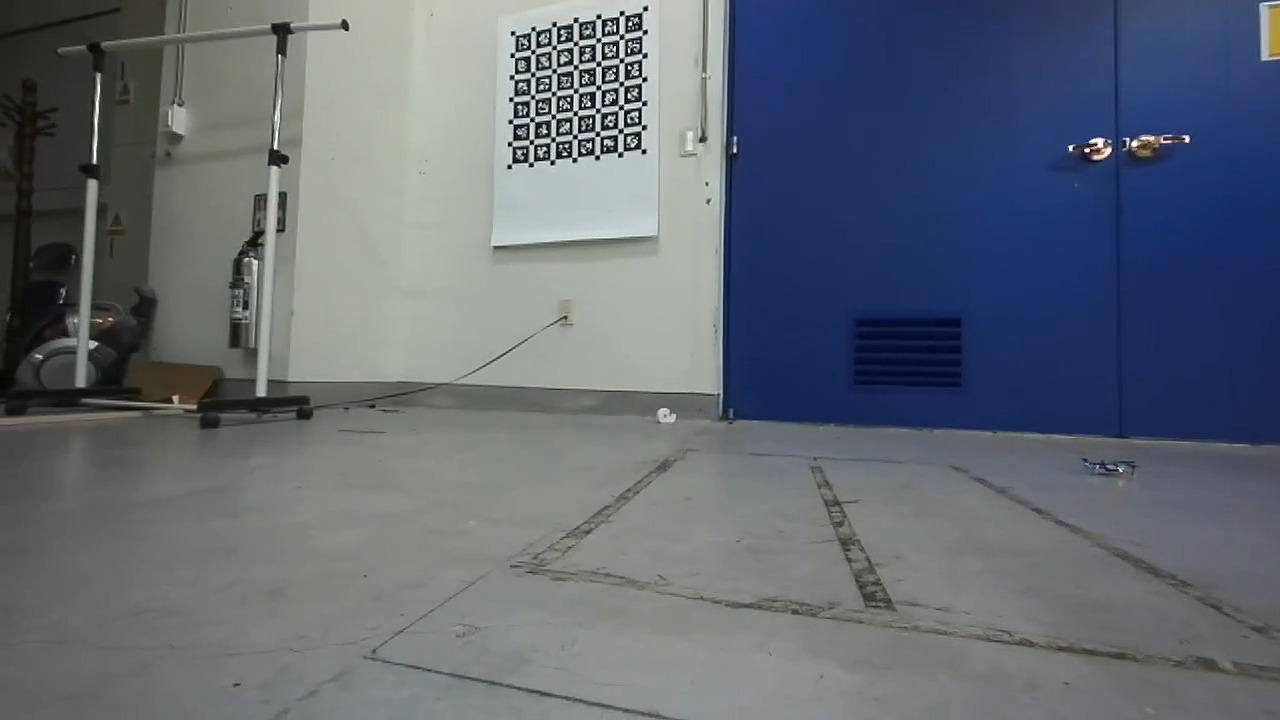crazyflie: (1079, 452, 1143, 483)
